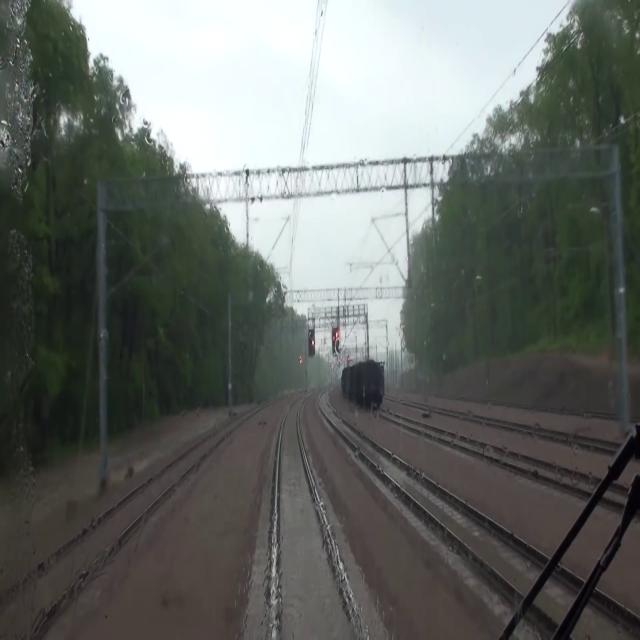rail-track: (0, 426, 228, 639), (321, 394, 494, 558), (277, 400, 361, 639), (460, 439, 505, 456)
